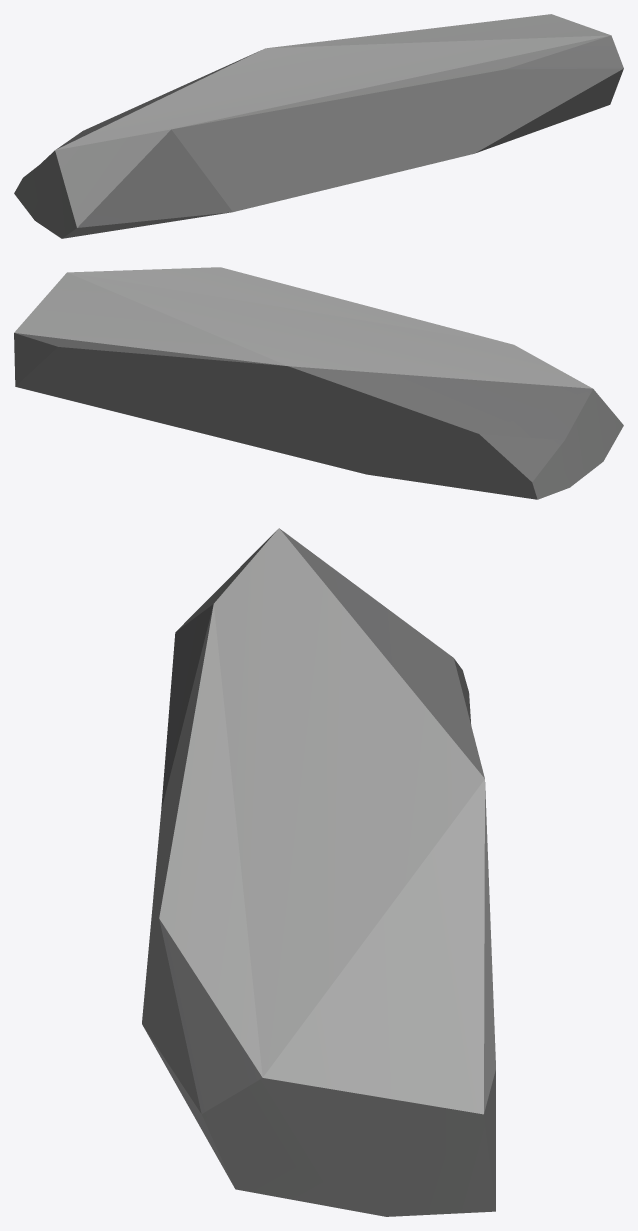
Rendered from stones3.fbx.
3 renders of one model, top to bottom at view 1: azimuth 30°, elevation 25°; view 2: azimuth 150°, elevation 25°; view 3: azimuth 270°, elevation 25°, orthographic. The views are drawn at different scales.
Parts seen in each view (by area): view 1: stones3; view 2: stones3; view 3: stones3.
Boxes of the visible parts, x1,y1,x2,y2 form: stones3: (14,14,623,238); stones3: (14,267,623,499); stones3: (142,528,495,1216).
Bounding box in the file's own units: 24.66 × 4.42 × 7.07.
